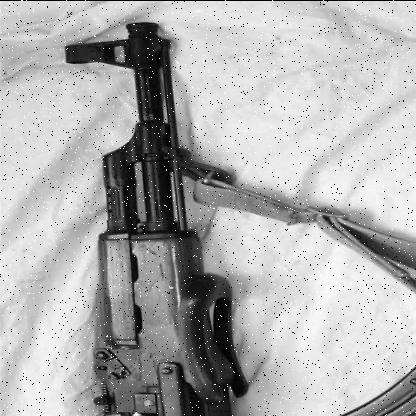rifle: (47, 16, 314, 416)
